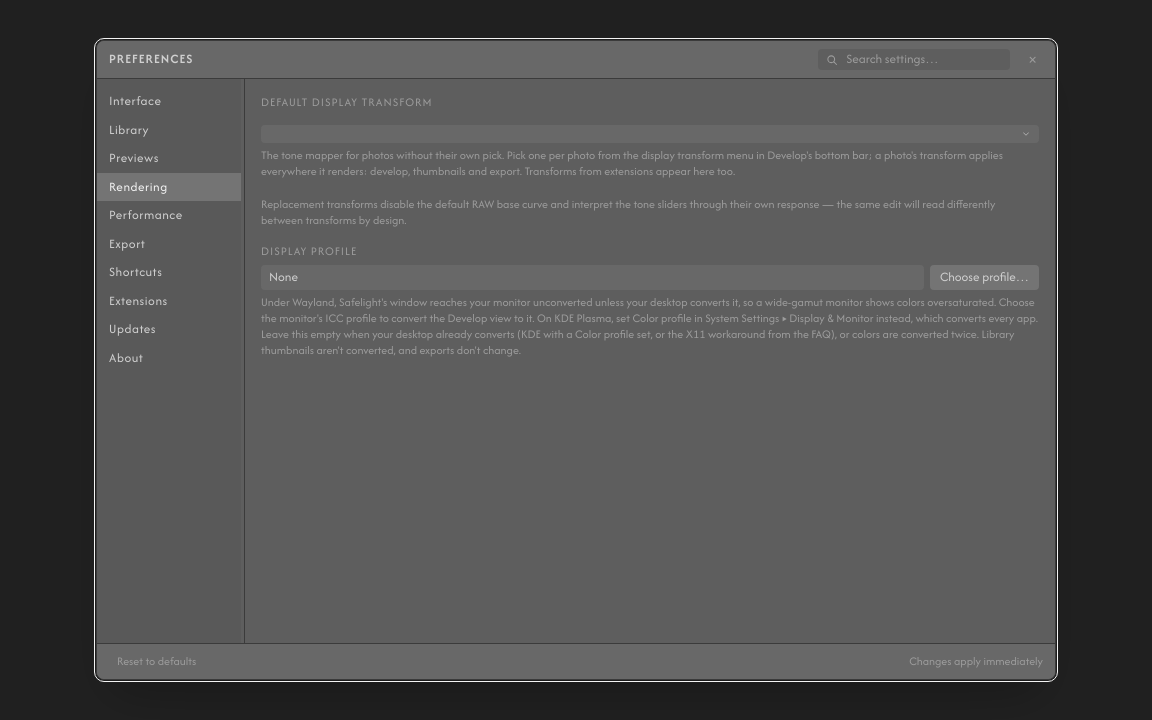
Test: Preferences ▸ Rendering ▸ Display profile › picks an ICC profile, stores its path and names it
Click the button "Choose profile…" at point(984, 277), box x1=930 y1=265 x2=1039 y2=290
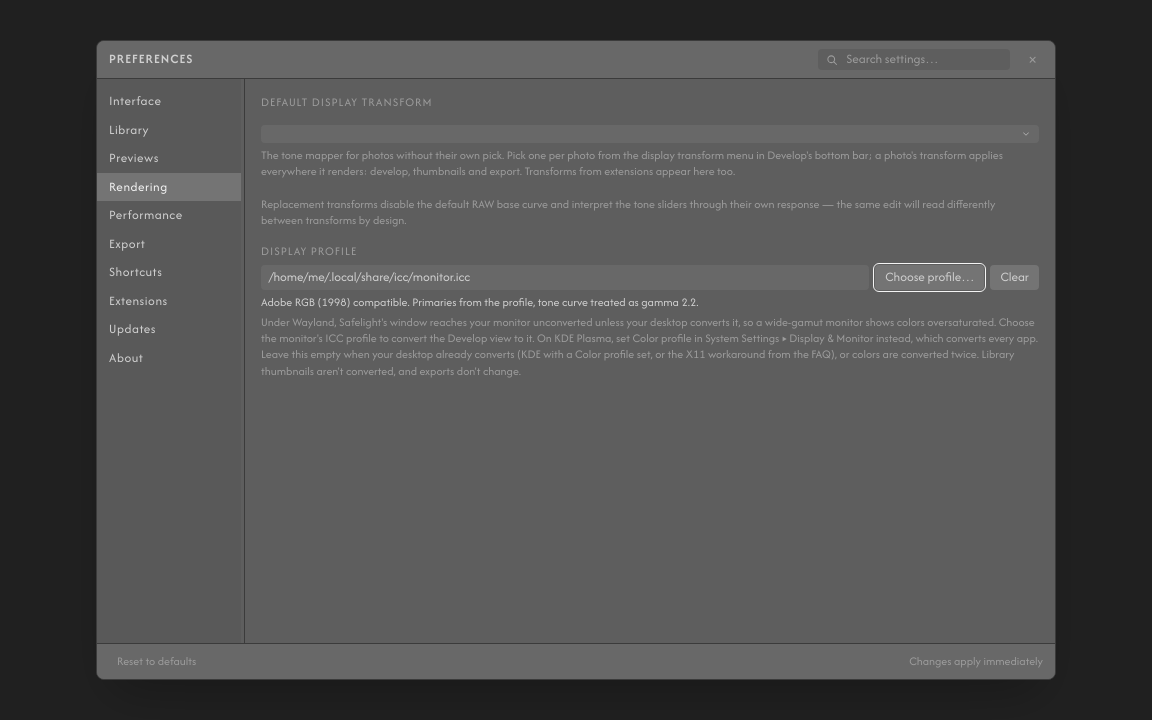
Expected: the text "/home/me/.local/share/icc/monitor.icc" is shown, x1=261 y1=265 x2=869 y2=290
Expected: the text "Adobe RGB (1998) compatible. Primaries from the profile, tone curve treated as gamma 2.2." is shown, x1=261 y1=294 x2=698 y2=310
